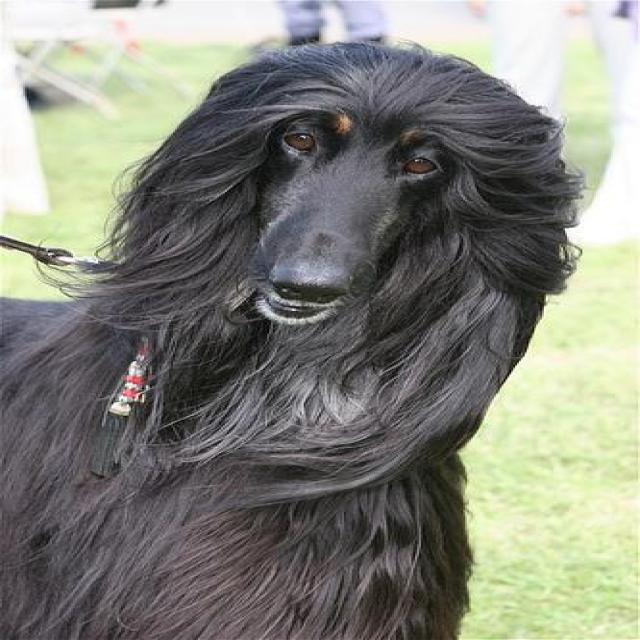afghan_hound: (0, 36, 577, 631)
